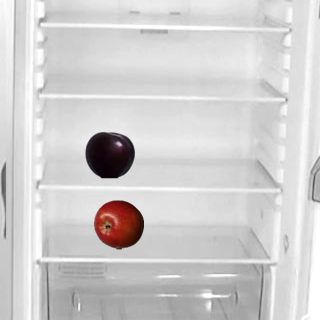Apple Braeburn: (93, 199, 143, 249)
Cherry Wax Black: (84, 129, 134, 179)
